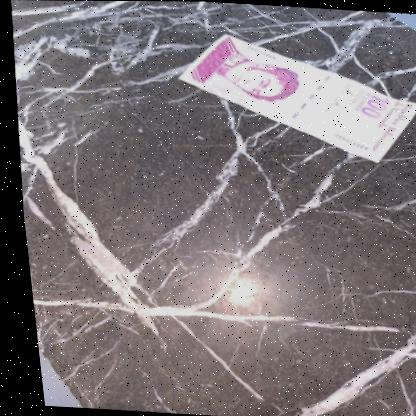vef_front: (167, 28, 416, 165)
